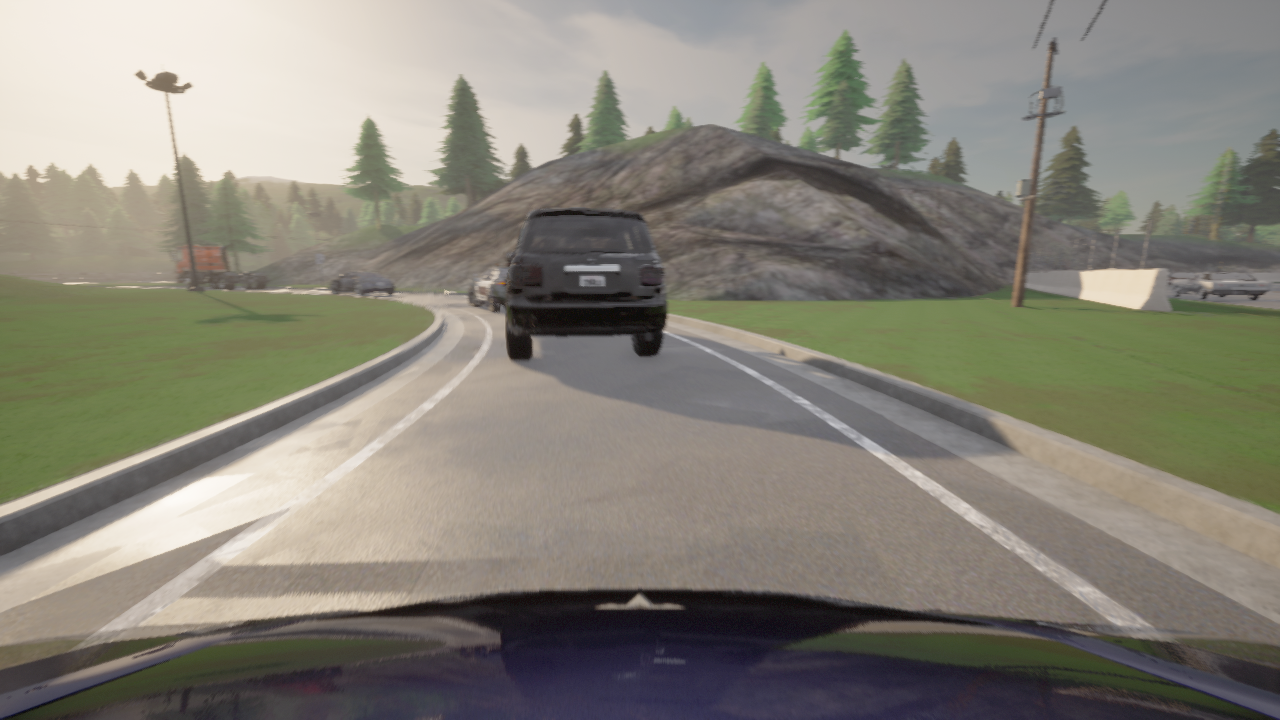cyclist: (0, 588, 1279, 719), (505, 208, 666, 359), (171, 245, 270, 289), (1171, 271, 1270, 299), (468, 263, 509, 312), (330, 271, 395, 295), (1166, 272, 1195, 288)
